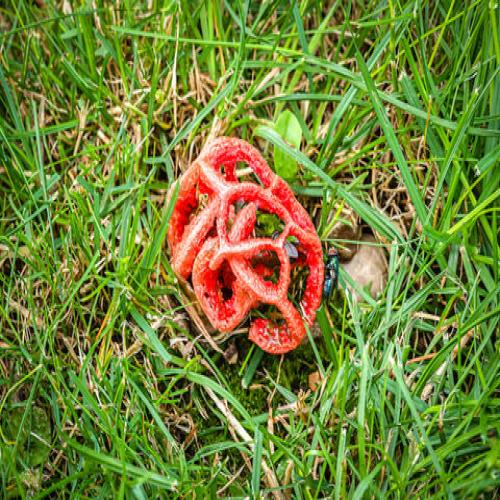Red Cage Fungus: (123, 123, 367, 379)
